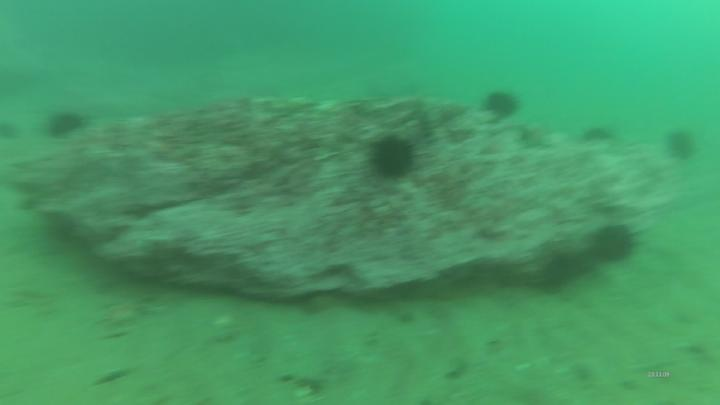echinus: (362, 130, 426, 185), (591, 218, 649, 271), (481, 88, 530, 124), (45, 109, 88, 142), (666, 125, 699, 167)
